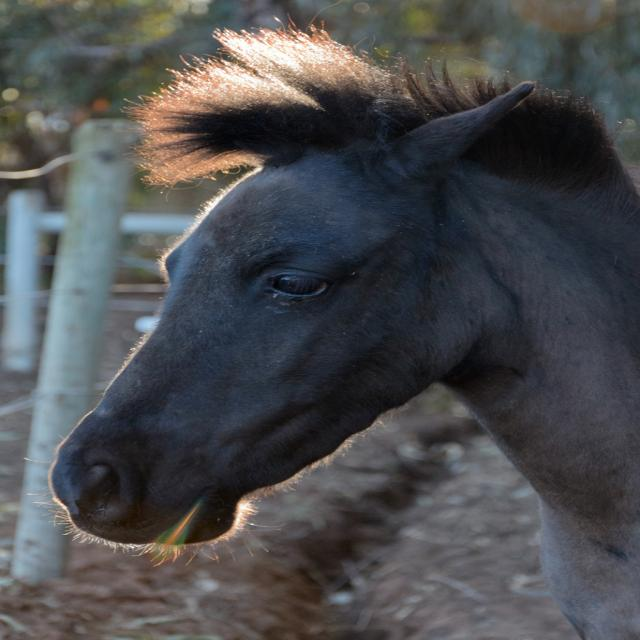Horse: (18, 13, 640, 640)
